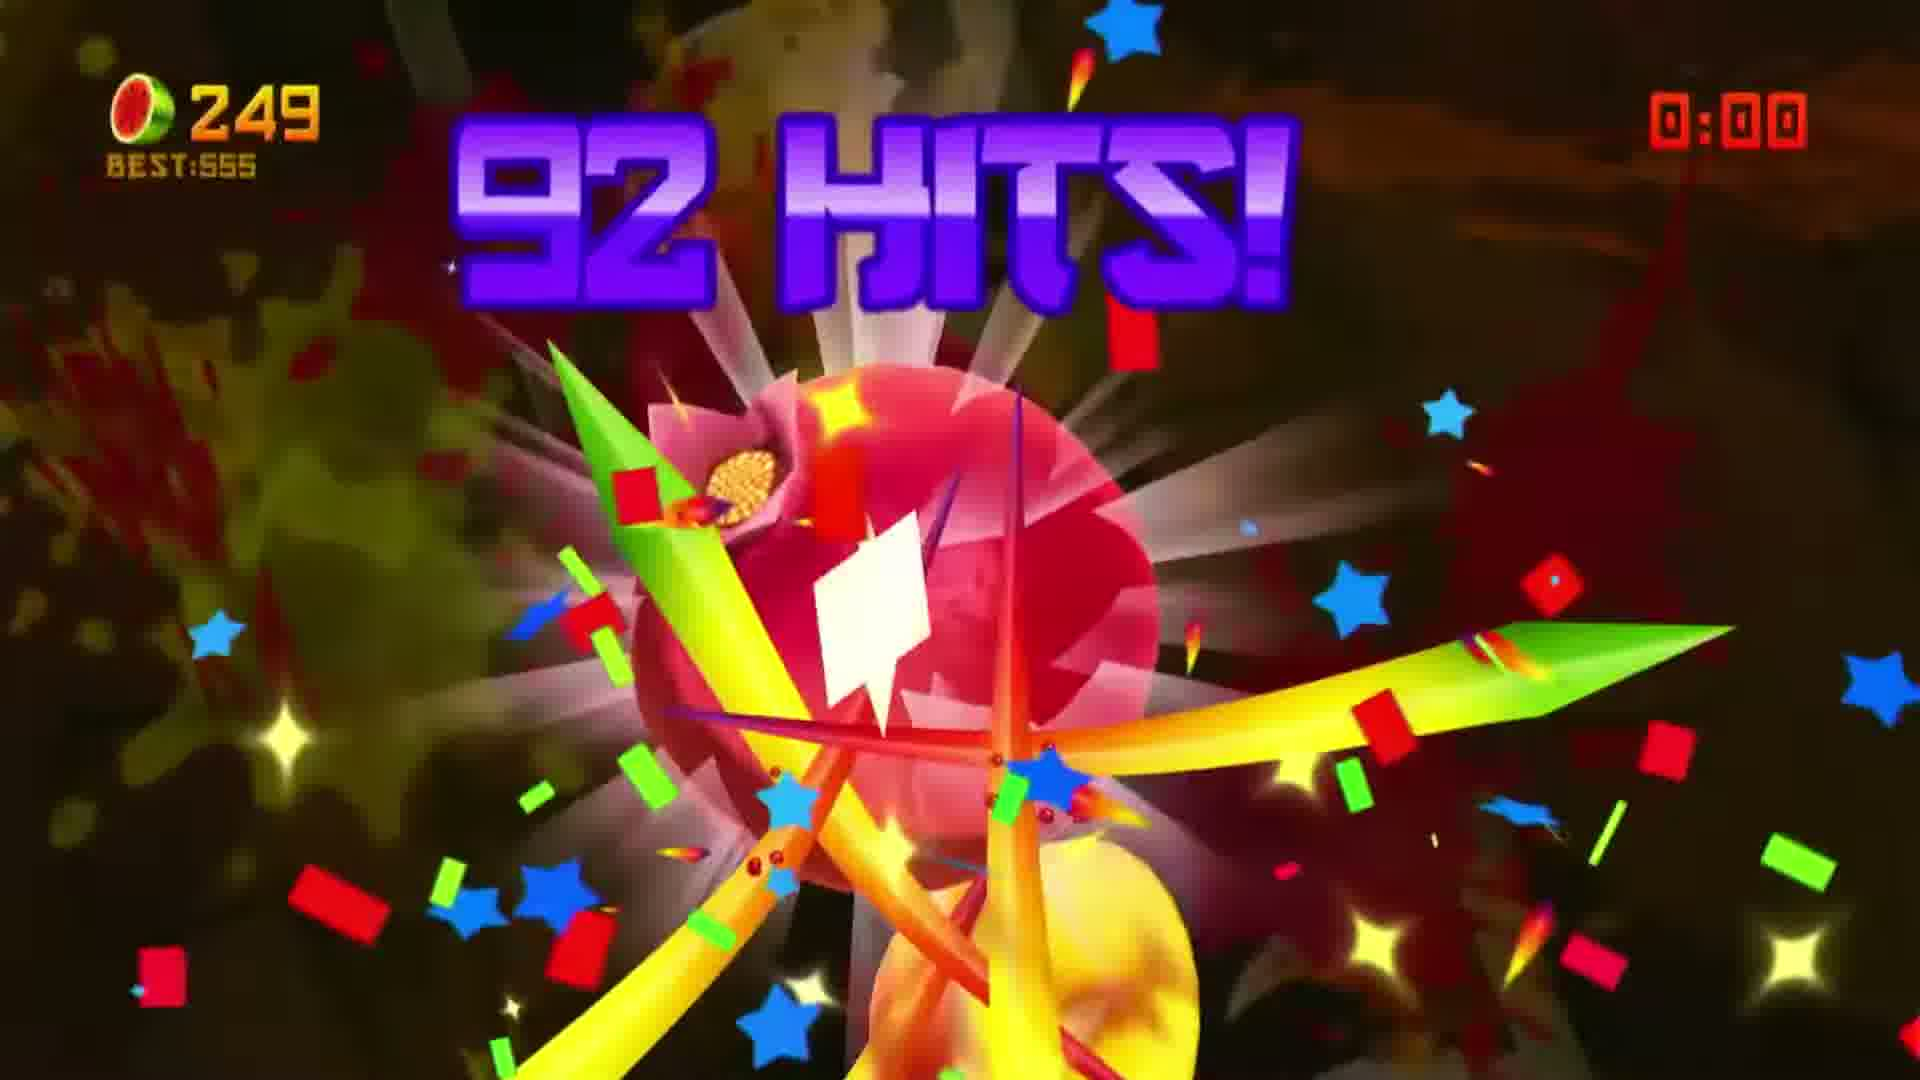blade_trail: (212, 299, 1733, 989)
fruit: (724, 355, 1166, 906), (993, 861, 1280, 1080)
